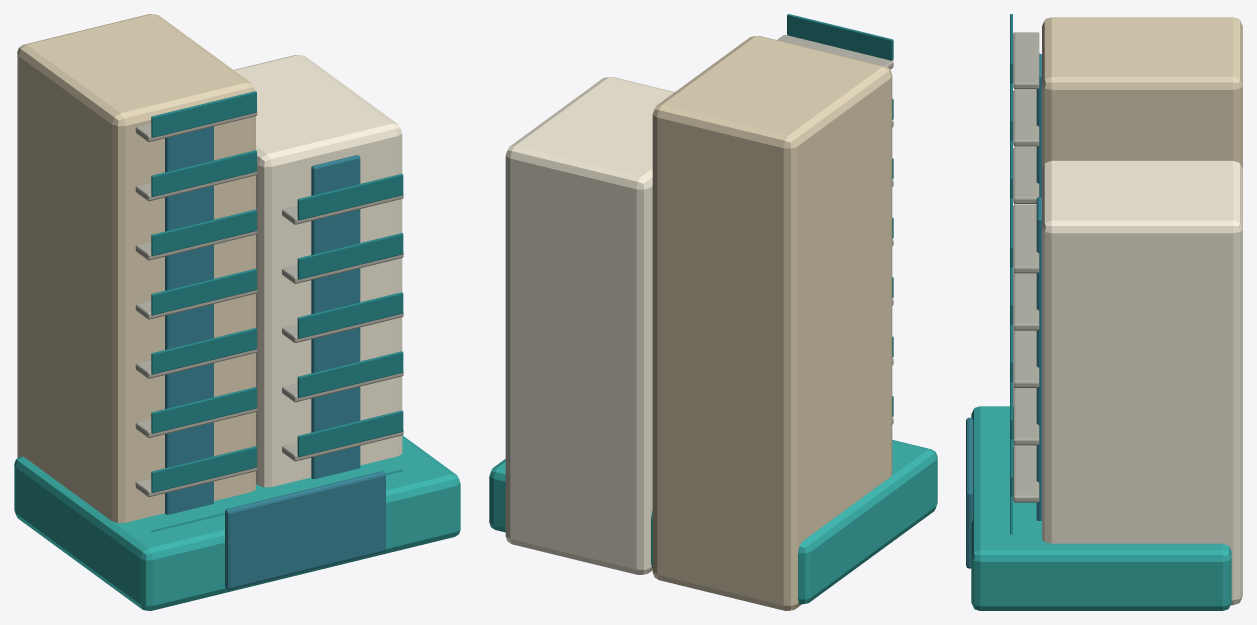
File: condo-bg-v2.glb
3 renders of one model, left to right at view 1: azimuth 30°, elevation 25°; view 2: azimuth 150°, elevation 25°; view 3: azimuth 270°, elevation 25°, orthographic. The views are drawn at different scales.
Parts seen in each view (by area): view 1: BACKGROUND CONDO FAMILY · Chalk; view 2: BACKGROUND CONDO FAMILY · Chalk; view 3: BACKGROUND CONDO FAMILY · Chalk.
Part boxes in pixels (x1,y1,x2,y2): BACKGROUND CONDO FAMILY · Chalk: (14, 14, 460, 610); BACKGROUND CONDO FAMILY · Chalk: (489, 14, 937, 610); BACKGROUND CONDO FAMILY · Chalk: (966, 14, 1242, 610).
Bounding box in the file's own units: 4.8 × 6.93 × 3.72.
Materials: 1 (1 with a texture image).
